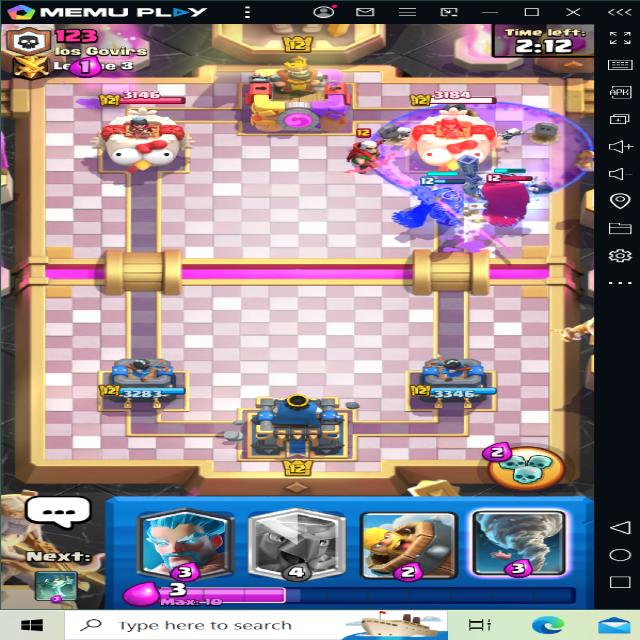Marcher: (336, 128, 395, 179)
skellyking: (463, 160, 542, 230)
